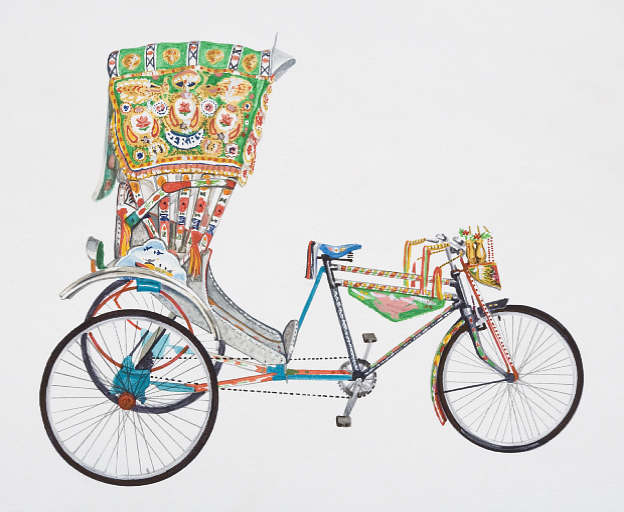Rickshaw: (25, 47, 588, 479)
